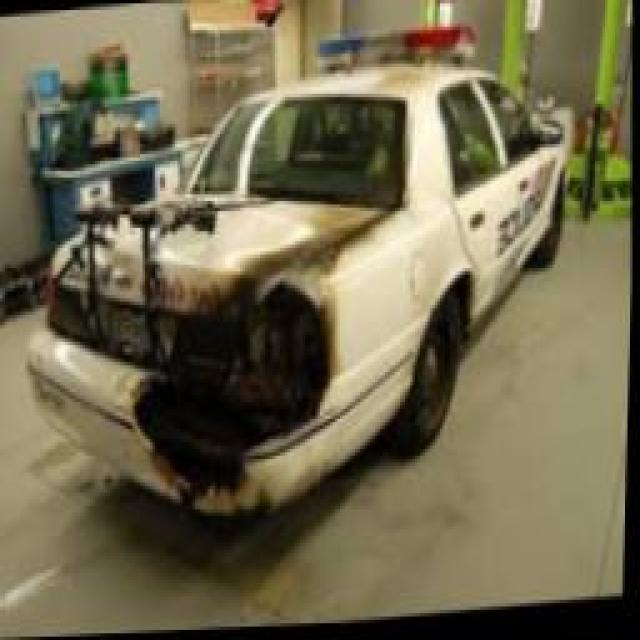Bumper: (29, 324, 311, 524)
Light: (254, 283, 331, 421)
Windshield: (192, 107, 407, 216)
